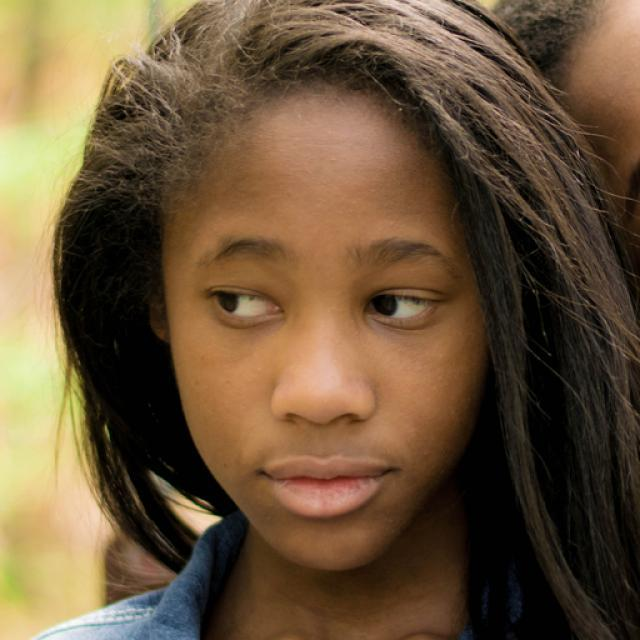neutral: (166, 82, 495, 572)
